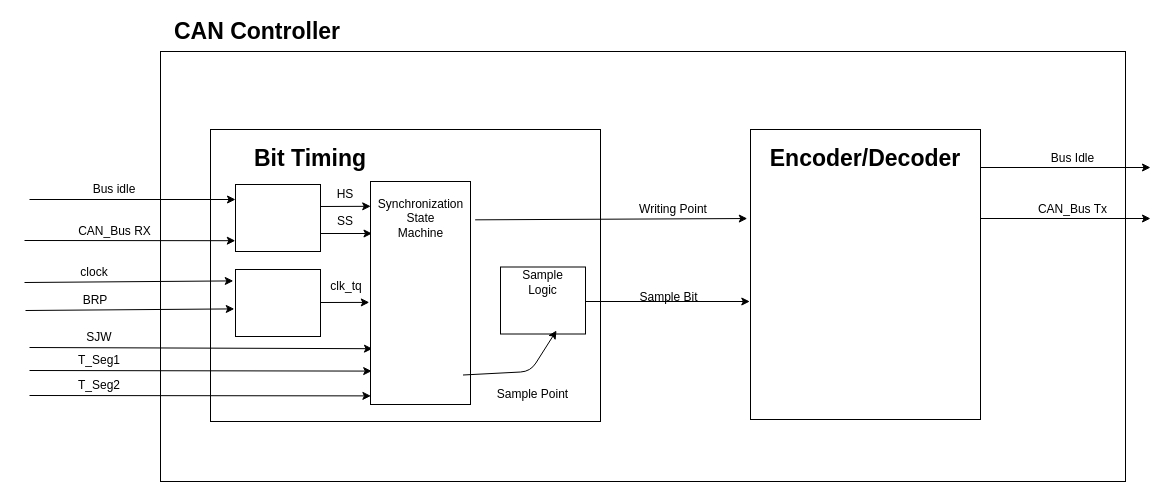
Image size: 1176x499. Some labels were removed from this diagram. The centre of each missing label's shape, as x and y in pixels:
Baudrate Logic: the point at 277,302
Edge Detector: the point at 277,218
